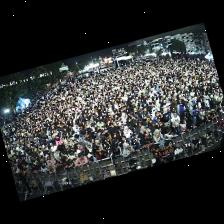person: (110, 145, 122, 170), (136, 124, 151, 140), (171, 113, 180, 132), (151, 121, 161, 138), (75, 154, 88, 167), (162, 126, 175, 139), (141, 133, 153, 147), (123, 143, 135, 157), (163, 108, 171, 127), (96, 147, 107, 160), (154, 111, 163, 126), (63, 157, 74, 169), (133, 114, 142, 128), (193, 104, 199, 125), (180, 119, 189, 133), (120, 136, 131, 147), (154, 130, 164, 142), (124, 126, 131, 143), (131, 138, 140, 151), (103, 138, 112, 151), (69, 150, 78, 163), (207, 109, 217, 120), (80, 146, 91, 156), (112, 133, 121, 145), (199, 106, 206, 121), (46, 155, 56, 165), (31, 163, 41, 173), (40, 161, 48, 173), (132, 132, 140, 144), (65, 145, 75, 154), (108, 123, 116, 133), (85, 141, 93, 151), (95, 140, 103, 150), (87, 154, 97, 162), (135, 122, 141, 135), (54, 148, 60, 161), (216, 106, 223, 117), (56, 135, 63, 145), (189, 103, 194, 116), (48, 165, 56, 173), (156, 157, 163, 164), (77, 145, 82, 153)
